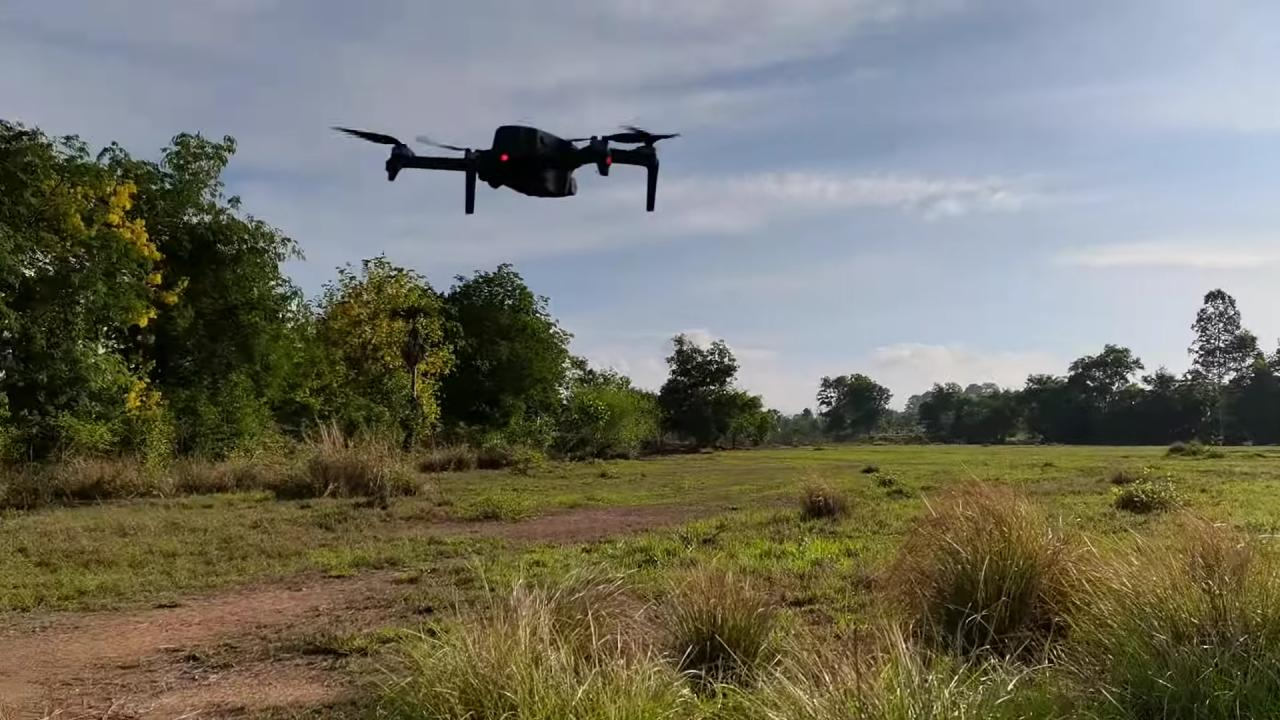Drone: (312, 112, 697, 231)
